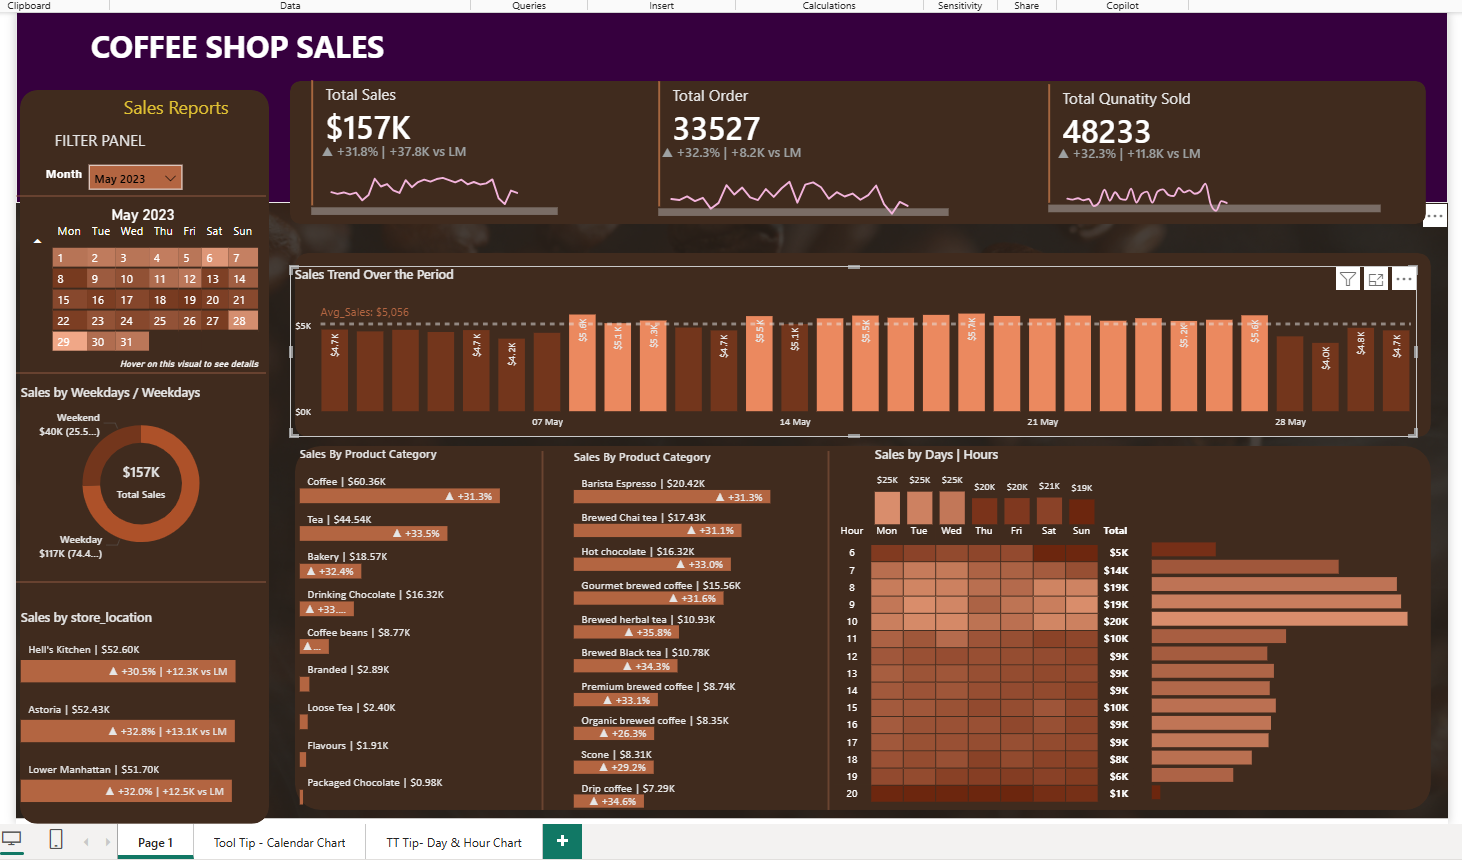

The dashboard page shown, as its layout file describes it:
{"tool":"powerbi","page":{"name":"Page 1","canvas":[1499,850],"ordinal":0},"visuals":[{"type":"shape","box":[292.1,454.3,1189.2,381],"z":0},{"type":"shape","box":[0,0,1499,199.9],"z":1000},{"type":"shape","box":[4.2,81.7,260.7,768.3],"z":2000},{"type":"shape","box":[286.8,72.2,1189.2,149.7],"z":3000},{"type":"textbox","box":[73.3,8.4,338.1,55.5],"z":4000},{"type":"cardVisual","fields":{"Data":["Transactions.Total Sales"]},"box":[292,54.7,300.4,165.4],"z":4000,"group":"g1"},{"type":"cardVisual","fields":{"Data":["Transactions.Total Order"]},"box":[655,55.3,346.5,165.4],"z":4000,"group":"g2"},{"type":"cardVisual","fields":{"Data":["Transactions.Total Qunatity Sold"]},"box":[1063.5,58.6,390.5,158.1],"z":4000,"group":"g3"},{"type":"slicer","fields":{"Values":["Date Table.Month Year"]},"box":[71.2,154.9,107.8,37.7],"z":5000},{"type":"group","id":"g1","title":"Group 1","box":[292,54.7,300.4,168],"z":6000},{"type":"lineChart","fields":{"Y":["Transactions.Total Sales"],"Category":["Date Table.Date.Variation.Date Hierarchy.Year","Date Table.Date.Variation.Date Hierarchy.Quarter","Date Table.Date.Variation.Date Hierarchy.Month","Date Table.Date.Variation.Date Hierarchy.Day"]},"box":[315.2,137.2,224.5,85.5],"z":6000,"group":"g1"},{"type":"lineChart","fields":{"Category":["Date Table.Date.Variation.Date Hierarchy.Year","Date Table.Date.Variation.Date Hierarchy.Quarter","Date Table.Date.Variation.Date Hierarchy.Month","Date Table.Date.Variation.Date Hierarchy.Day"],"Y":["Transactions.Total Order"]},"box":[670.7,137.7,277.4,79.6],"z":6000,"group":"g2"},{"type":"lineChart","fields":{"Category":["Date Table.Date.Variation.Date Hierarchy.Year","Date Table.Date.Variation.Date Hierarchy.Quarter","Date Table.Date.Variation.Date Hierarchy.Month","Date Table.Date.Variation.Date Hierarchy.Day"],"Y":["Transactions.Total Qunatity Sold"]},"box":[1086,139.6,196.8,78.5],"z":6000,"group":"g3"},{"type":"group","id":"g2","title":"Group 1","box":[655,55.3,346.5,165.4],"z":7000},{"type":"group","id":"g3","title":"Group 1","box":[1063.5,58.6,390.5,159.5],"z":8000},{"type":"pivotTable","fields":{"Rows":["Date Table.Week Number"],"Columns":["Date Table.Day Name"],"Values":["Min(Date Table.Day Nmuber)"]},"box":[8.4,213.5,253.3,164.3],"z":9000},{"type":"card","fields":{"Values":["Min(Date Table.Month Year)"]},"box":[36.6,173.8,192.6,78.5],"z":10000},{"type":"card","fields":{"Values":["Transactions.Foot Note"]},"box":[100.5,354.9,161.2,30.4],"z":11000},{"type":"shape","box":[0,370.6,261.7,14.7],"z":12000},{"type":"shape","box":[0,185.3,261.7,14.7],"z":13000},{"type":"donutChart","title":"Sales by Weekdays / Weekdays","fields":{"Category":["Date Table.Weekdays / Weekdays"],"Y":["Transactions.Total Sales"]},"box":[0,389.4,261.7,191.6],"z":14000},{"type":"card","fields":{"Values":["Transactions.Total Sales"]},"box":[71.2,465.8,119.3,49.2],"z":15000},{"type":"shape","box":[0,589.3,261.7,14.7],"z":16000},{"type":"clusteredBarChart","title":" Sales by store_location","fields":{"Category":["Transactions.store_location"],"Y":["Transactions.Placeholder","Transactions.Total Sales"]},"box":[0,624.9,261.7,210.4],"z":17000},{"type":"shape","box":[292.1,252.3,1189.2,192.6],"z":18000},{"type":"columnChart","title":"Sales Trend Over the Period","fields":{"Category":["Transactions.transaction_date"],"Y":["Transactions.Total Sales"]},"box":[286.8,265.9,1179.7,179],"z":19000},{"type":"clusteredBarChart","title":"Sales By Product Category","fields":{"Y":["Transactions.Placeholder","Transactions.Total Sales"],"Category":["Transactions.product_category"]},"box":[292.1,454.3,250,381],"z":20000},{"type":"shape","box":[540.1,459.5,22,375.8],"z":21000},{"type":"clusteredBarChart","title":"Sales By Product Category","fields":{"Y":["Transactions.Placeholder","Transactions.Total Sales"],"Category":["Transactions.product_type"]},"box":[578.9,457.5,249.1,381],"z":22000},{"type":"shape","box":[839.5,459.5,22,375.8],"z":23000},{"type":"pivotTable","fields":{"Rows":["Transactions.Hour"],"Columns":["Date Table.Day Name"],"Values":["Transactions.Total Sales"]},"box":[851,529.7,369.5,320.3],"z":23001},{"type":"barChart","fields":{"Category":["Transactions.Hour"],"Y":["Transactions.Total Sales"]},"box":[1183.9,542.2,282.6,286.8],"z":23002},{"type":"columnChart","title":"Sales by Days | Hours","fields":{"Y":["Transactions.Total Sales"],"Category":["Date Table.Day Name"]},"box":[894,454.3,240.8,87.9],"z":23003},{"type":"textbox","box":[35.6,118.3,179,36.6],"z":23004},{"type":"textbox","box":[26.2,154.9,56.5,30.4],"z":23005},{"type":"textbox","box":[107.8,81.7,135,36.6],"z":23006}]}

Visuals, with their boxes on the page's 1499x850 design canvas (x1, y1, x2, y2). These are canvas units, not pixel positions in the 1462x860 screenshot, which may show the page scaled, cropped or inside an application window:
shape: BBox(292, 454, 1481, 835)
shape: BBox(0, 0, 1499, 200)
shape: BBox(4, 82, 265, 850)
shape: BBox(287, 72, 1476, 222)
textbox: BBox(73, 8, 411, 64)
cardVisual - Transactions.Total Sales: BBox(292, 55, 592, 220)
cardVisual - Transactions.Total Order: BBox(655, 55, 1002, 221)
cardVisual - Transactions.Total Qunatity Sold: BBox(1064, 59, 1454, 217)
slicer - Date Table.Month Year: BBox(71, 155, 179, 193)
"Group 1" group: BBox(292, 55, 592, 223)
lineChart - Transactions.Total Sales x Date Table.Date.Variation.Date Hierarchy.Year: BBox(315, 137, 540, 223)
lineChart - Date Table.Date.Variation.Date Hierarchy.Year x Date Table.Date.Variation.Date Hierarchy.Quarter: BBox(671, 138, 948, 217)
lineChart - Date Table.Date.Variation.Date Hierarchy.Year x Date Table.Date.Variation.Date Hierarchy.Quarter: BBox(1086, 140, 1283, 218)
"Group 1" group: BBox(655, 55, 1002, 221)
"Group 1" group: BBox(1064, 59, 1454, 218)
pivotTable - Date Table.Week Number x Date Table.Day Name: BBox(8, 214, 262, 378)
card - Min(Date Table.Month Year): BBox(37, 174, 229, 252)
card - Transactions.Foot Note: BBox(100, 355, 262, 385)
shape: BBox(0, 371, 262, 385)
shape: BBox(0, 185, 262, 200)
"Sales by Weekdays / Weekdays" donutChart: BBox(0, 389, 262, 581)
card - Transactions.Total Sales: BBox(71, 466, 190, 515)
shape: BBox(0, 589, 262, 604)
" Sales by store_location" clusteredBarChart: BBox(0, 625, 262, 835)
shape: BBox(292, 252, 1481, 445)
"Sales Trend Over the Period" columnChart: BBox(287, 266, 1466, 445)
"Sales By Product Category" clusteredBarChart: BBox(292, 454, 542, 835)
shape: BBox(540, 460, 562, 835)
"Sales By Product Category" clusteredBarChart: BBox(579, 458, 828, 838)
shape: BBox(840, 460, 862, 835)
pivotTable - Transactions.Hour x Date Table.Day Name: BBox(851, 530, 1220, 850)
barChart - Transactions.Hour x Transactions.Total Sales: BBox(1184, 542, 1466, 829)
"Sales by Days | Hours" columnChart: BBox(894, 454, 1135, 542)
textbox: BBox(36, 118, 215, 155)
textbox: BBox(26, 155, 83, 185)
textbox: BBox(108, 82, 243, 118)
